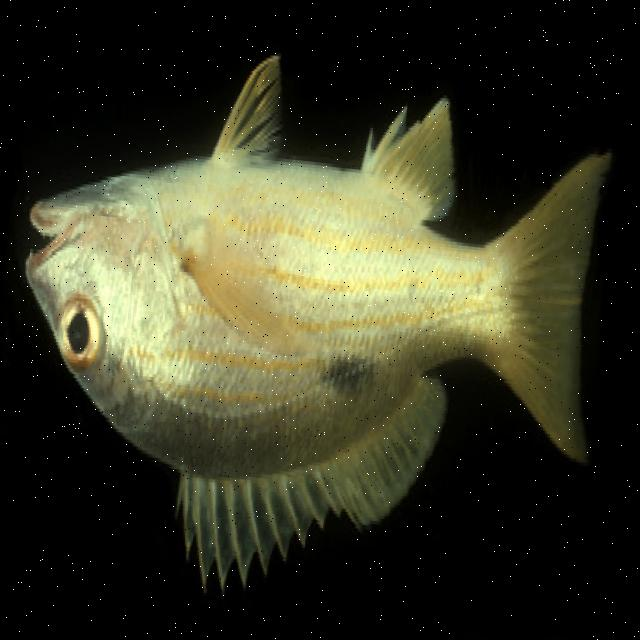ikan: (0, 28, 627, 634)
